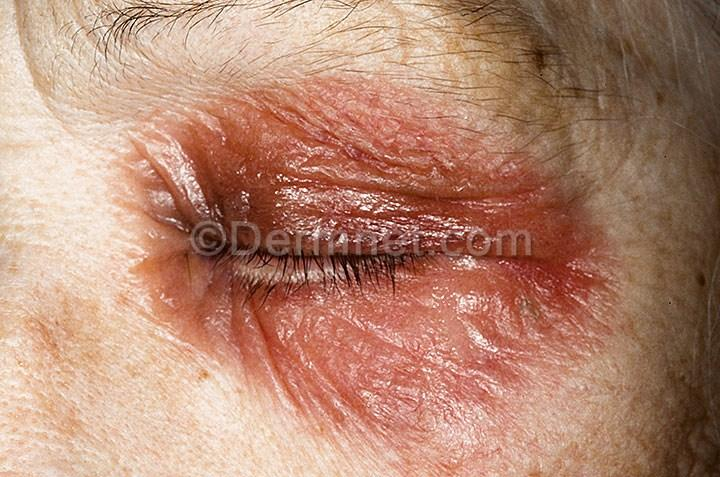Eczema: (169, 119, 257, 217), (254, 110, 338, 205), (329, 110, 409, 202), (207, 284, 295, 366), (474, 172, 541, 275), (280, 290, 368, 368), (429, 272, 505, 360), (415, 148, 497, 229), (521, 202, 589, 299), (352, 360, 441, 431), (115, 142, 181, 236), (513, 292, 576, 381), (136, 249, 213, 321), (291, 366, 370, 430), (423, 338, 490, 412), (366, 291, 427, 359), (227, 363, 296, 422)
